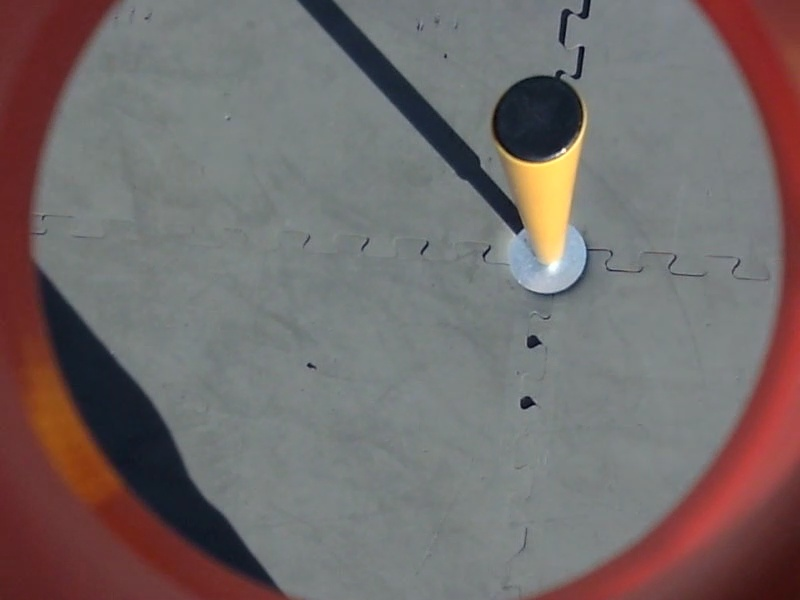tip: (486, 70, 591, 175)
